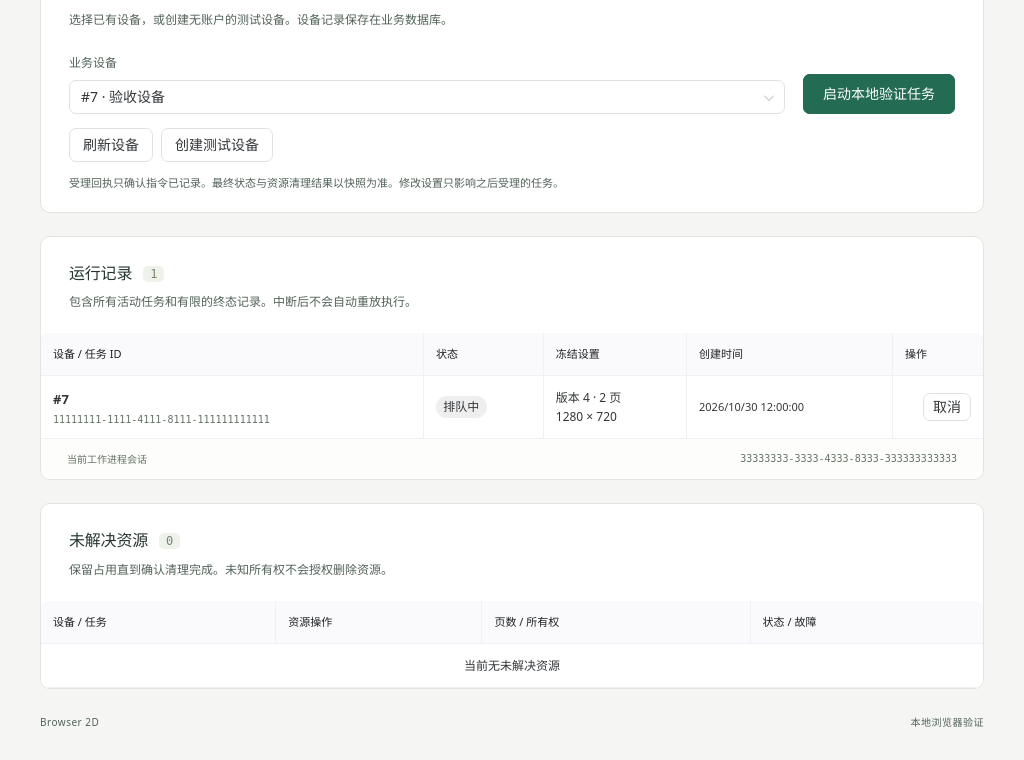
Scenario: scheduling screen › allows cancelling queued and waits for cleanup rather than inventing a terminal state
(page scrolled)
Click the button "取消" at (947, 407), box [923,393,971,421]
(page scrolled)
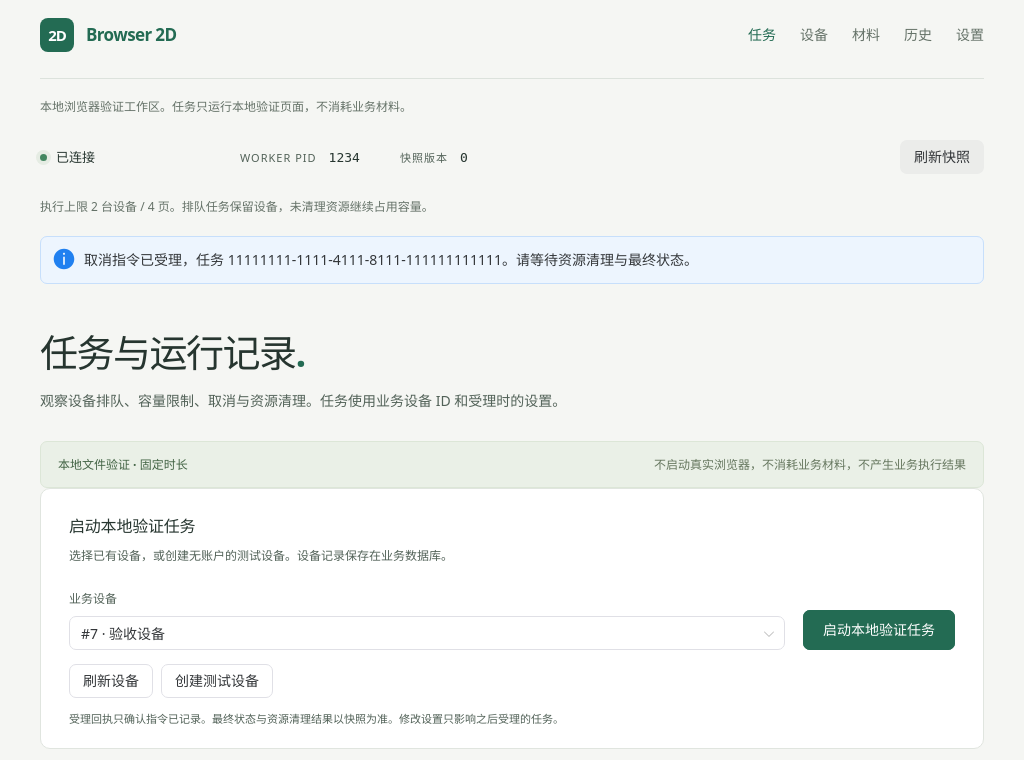
Expected: the message with test id "command-receipt" shows "请等待资源清理", [84,250,698,269]
